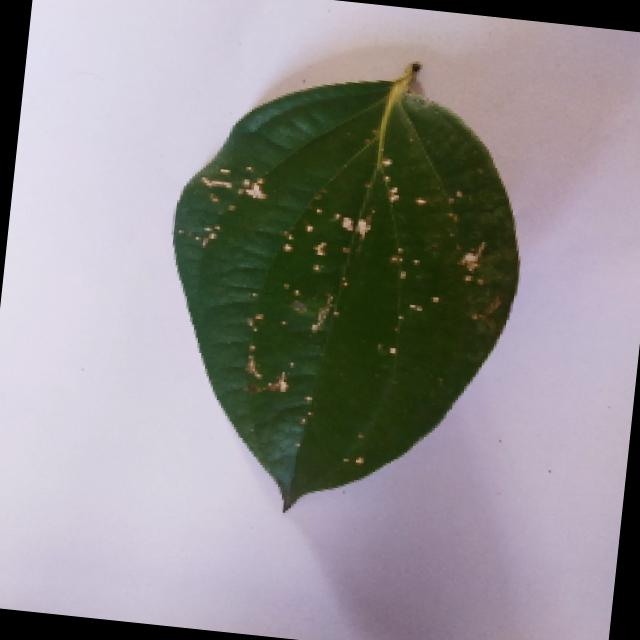pollu-disease: (134, 26, 556, 528)
